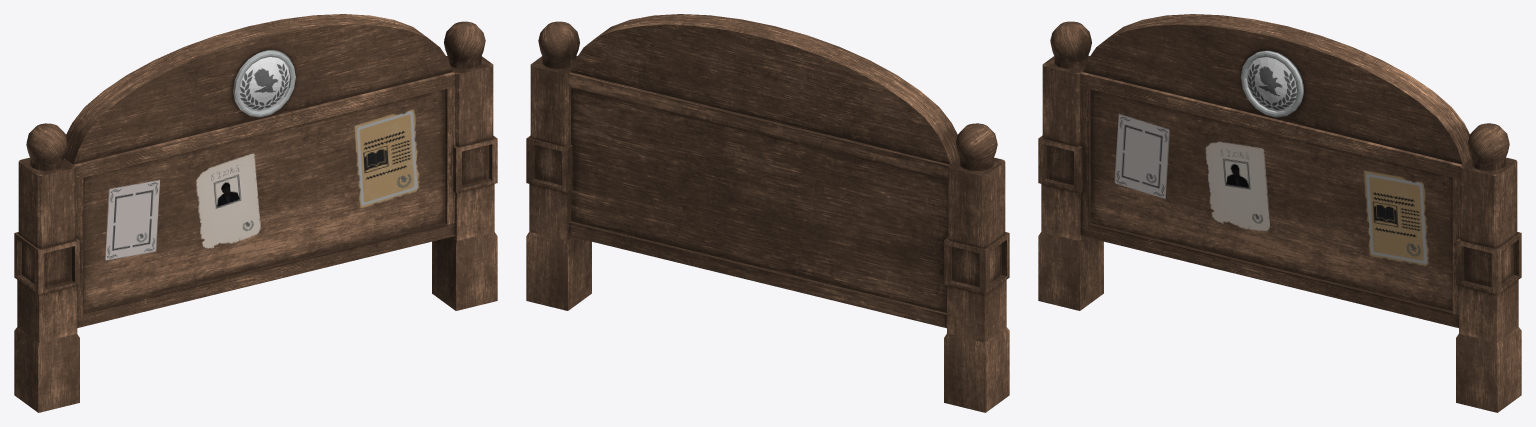
The picture shows the model from 3 angles, left to right: view 1: azimuth 30°, elevation 25°; view 2: azimuth 150°, elevation 25°; view 3: azimuth 330°, elevation 25°; orthographic projection.
Visible parts, largest first — view 1: Notice_Board; view 2: Notice_Board; view 3: Notice_Board.
Part boxes in pixels (x1,y1,x2,y2): Notice_Board: (14, 14, 497, 412); Notice_Board: (526, 14, 1009, 412); Notice_Board: (1038, 14, 1521, 412).
Size of the model in its own units: 0.9245 by 0.6073 by 0.0864.
Materials: 1 (1 with a texture image).
